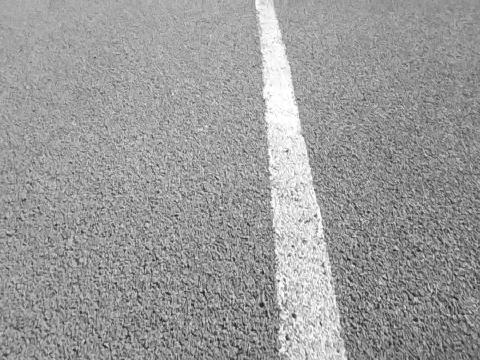Lines: (253, 0, 350, 360)
